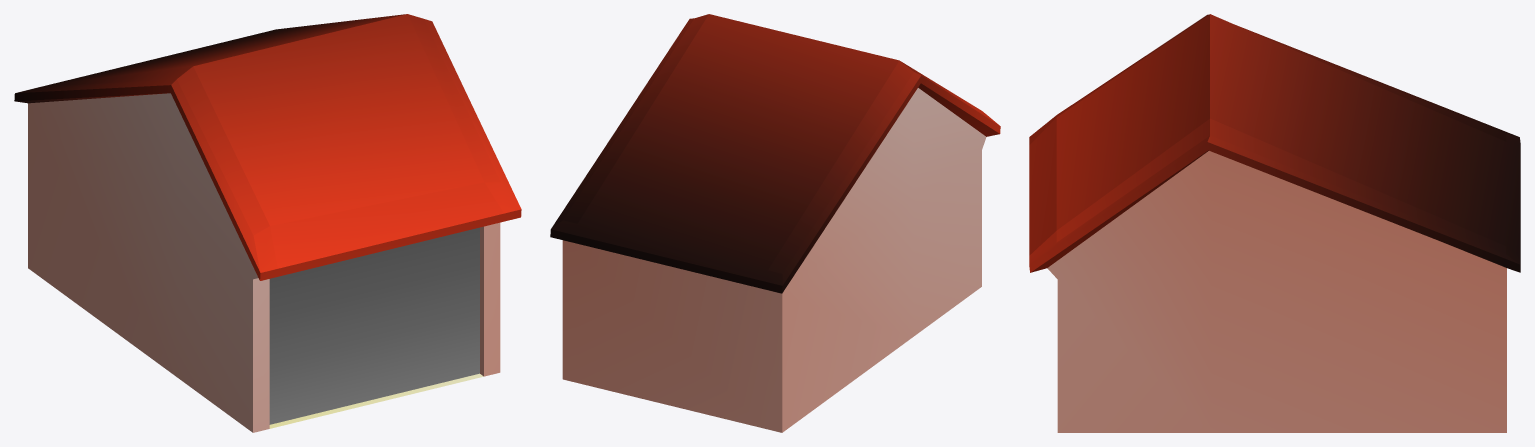
The model's file is SM_Street_House_F1_ONLY_High.fbx.
3 views of the same model, side by side, from view 1: azimuth 30°, elevation 25°; view 2: azimuth 150°, elevation 25°; view 3: azimuth 270°, elevation 25° (orthographic). The views are drawn at different scales.
Visible parts, largest first — view 1: Street_House_F1_ONLY_High_mash; view 2: Street_House_F1_ONLY_High_mash; view 3: Street_House_F1_ONLY_High_mash.
Part boxes in pixels (x1,y1,x2,y2): Street_House_F1_ONLY_High_mash: [14, 14, 521, 432]; Street_House_F1_ONLY_High_mash: [550, 14, 1000, 432]; Street_House_F1_ONLY_High_mash: [1029, 14, 1520, 432].
Bounding box in the file's own units: 4.22 × 4.74 × 6.89.
